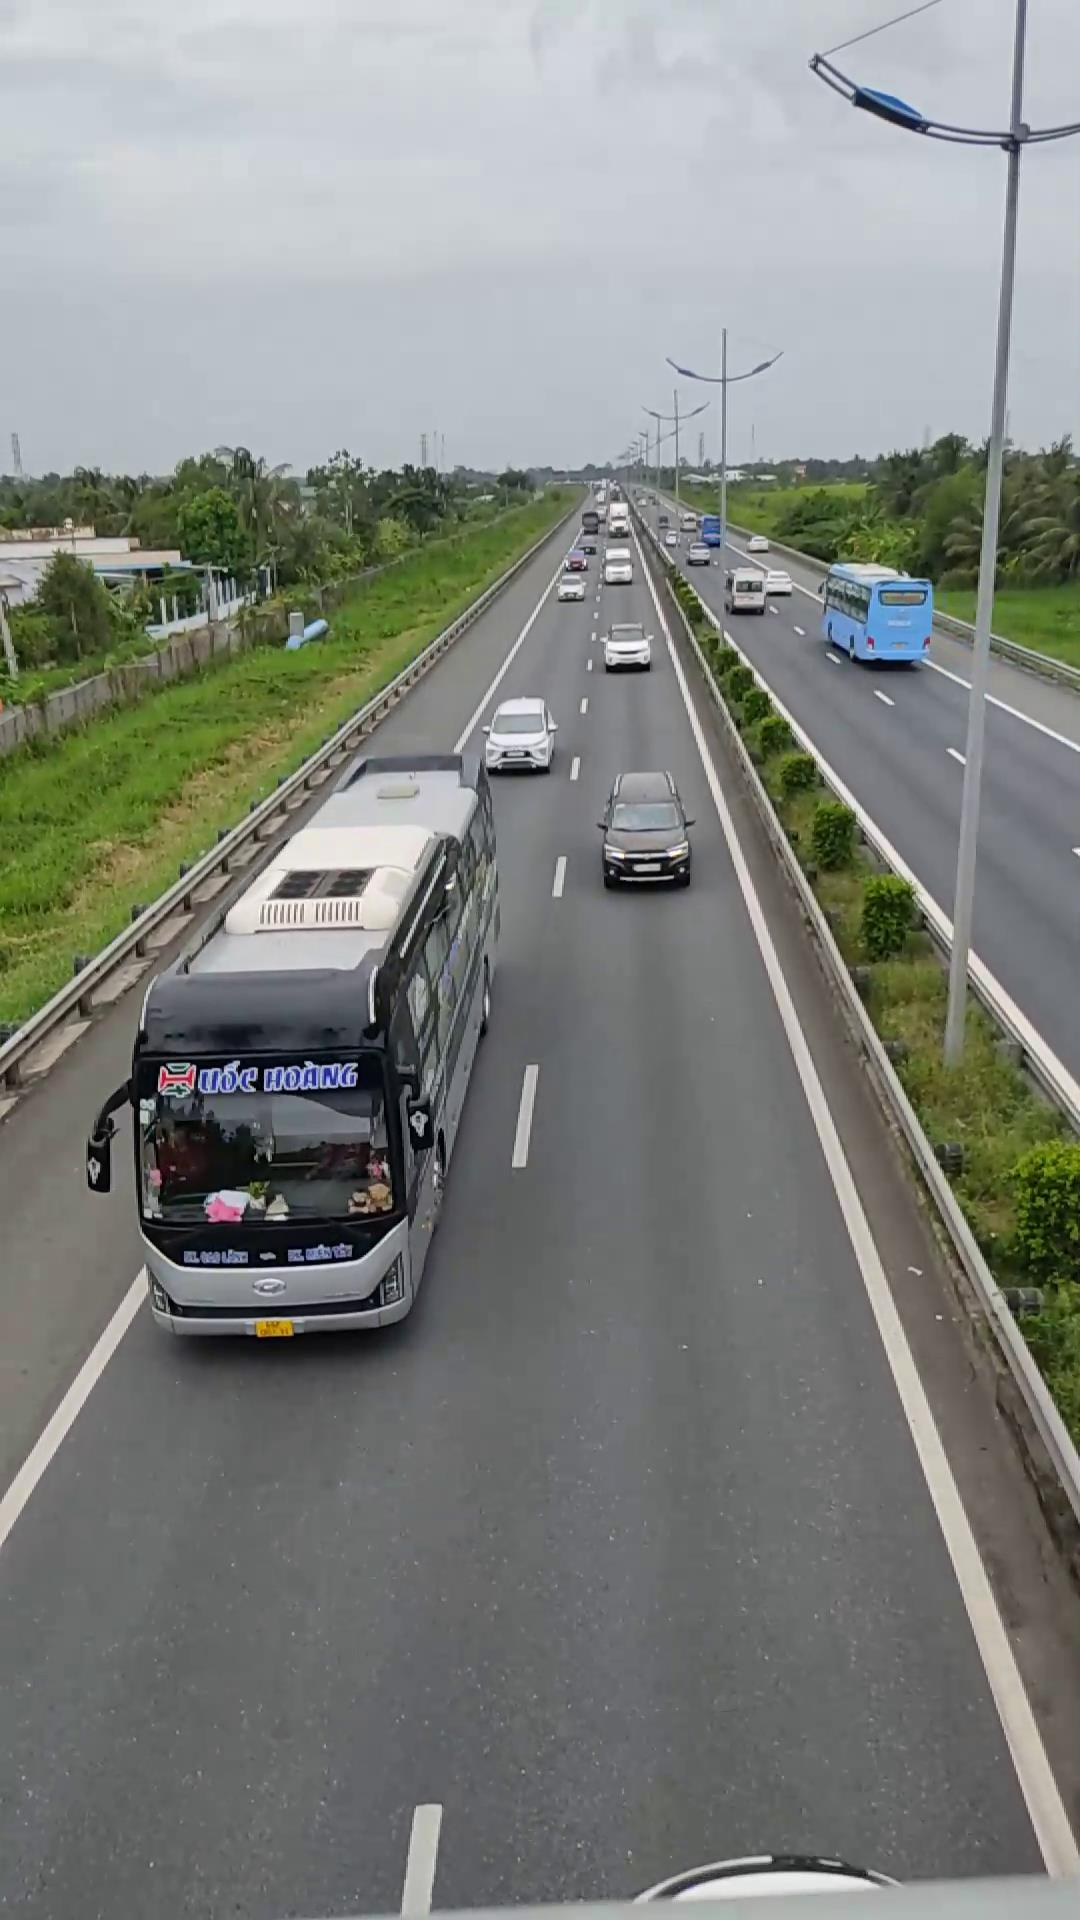bus: (117, 744, 501, 1346)
car: (595, 769, 695, 887), (473, 695, 558, 771)
